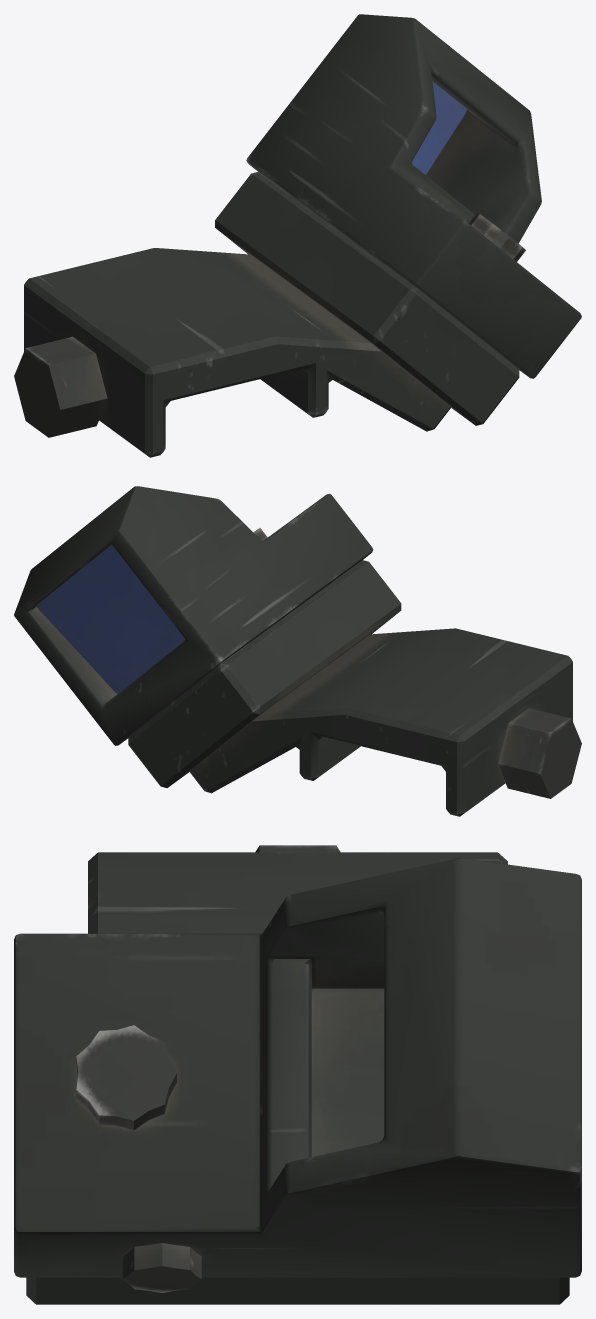
File: mira_45_m4.glb
The picture shows the model from 3 angles, top to bottom: view 1: azimuth 30°, elevation 25°; view 2: azimuth 150°, elevation 25°; view 3: azimuth 270°, elevation 25°; orthographic projection. The views are drawn at different scales.
Visible parts, largest first — view 1: mira_45_m4, mira_45_m4_mira_reflex; view 2: mira_45_m4, mira_45_m4_mira_reflex; view 3: mira_45_m4_mira_reflex, mira_45_m4.
Part boxes in pixels (bbox=[...]): mira_45_m4: bbox=[14, 171, 519, 457]; mira_45_m4_mira_reflex: bbox=[246, 14, 581, 378]; mira_45_m4: bbox=[128, 560, 581, 816]; mira_45_m4_mira_reflex: bbox=[14, 486, 373, 745]; mira_45_m4_mira_reflex: bbox=[14, 858, 581, 1292]; mira_45_m4: bbox=[26, 845, 569, 1304].
Size of the model in its own units: 0.0838 by 0.0458 by 0.046.
1 material, 1 textured.
